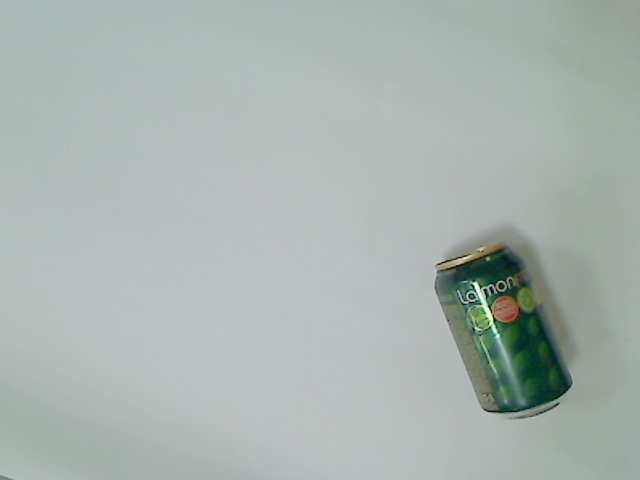can: (431, 239, 576, 422)
